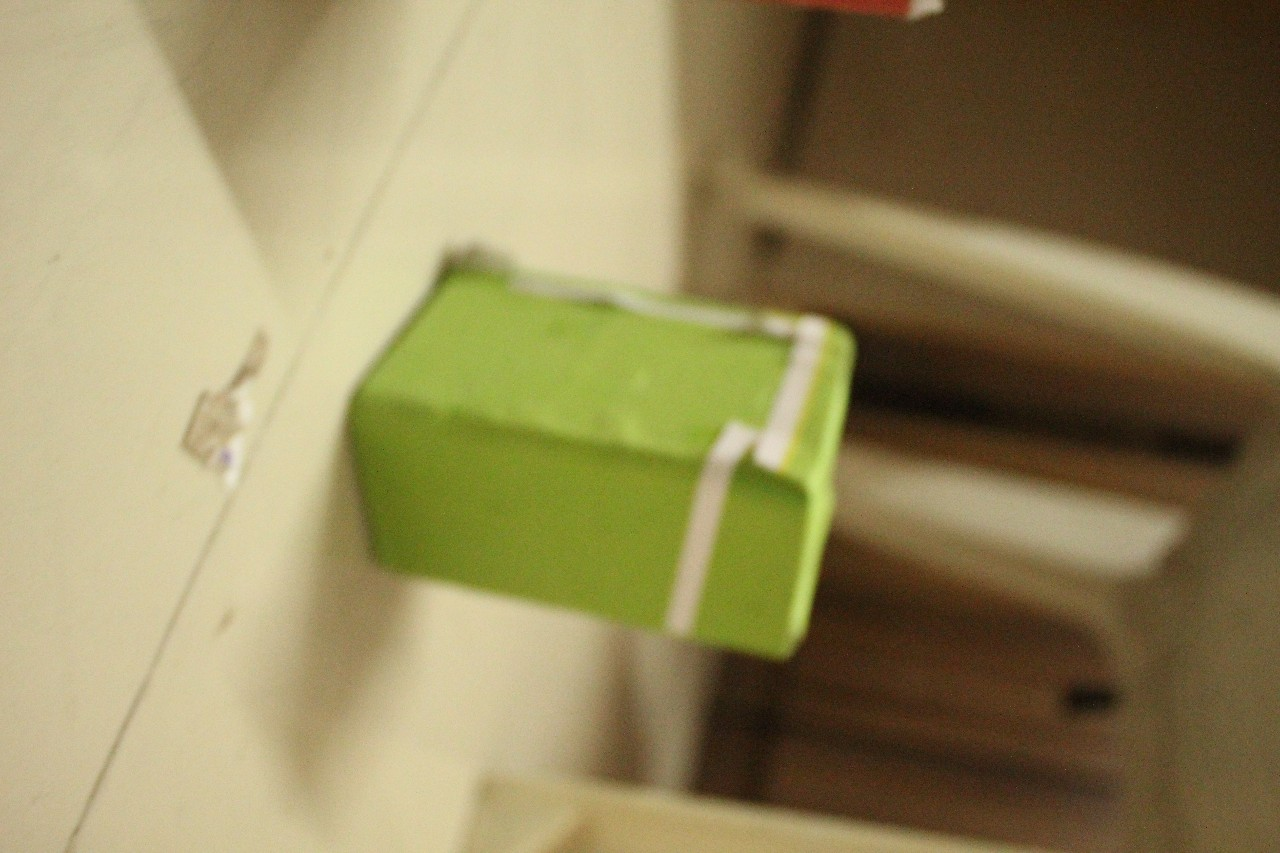green: (321, 239, 818, 654)
red: (721, 0, 1280, 304), (744, 521, 1149, 853)
